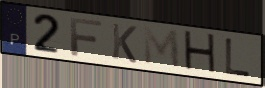2: (31, 13, 65, 56)
F: (69, 16, 104, 58)
H: (182, 29, 219, 77)
K: (110, 21, 138, 66)
L: (224, 36, 253, 79)
M: (142, 26, 183, 71)
